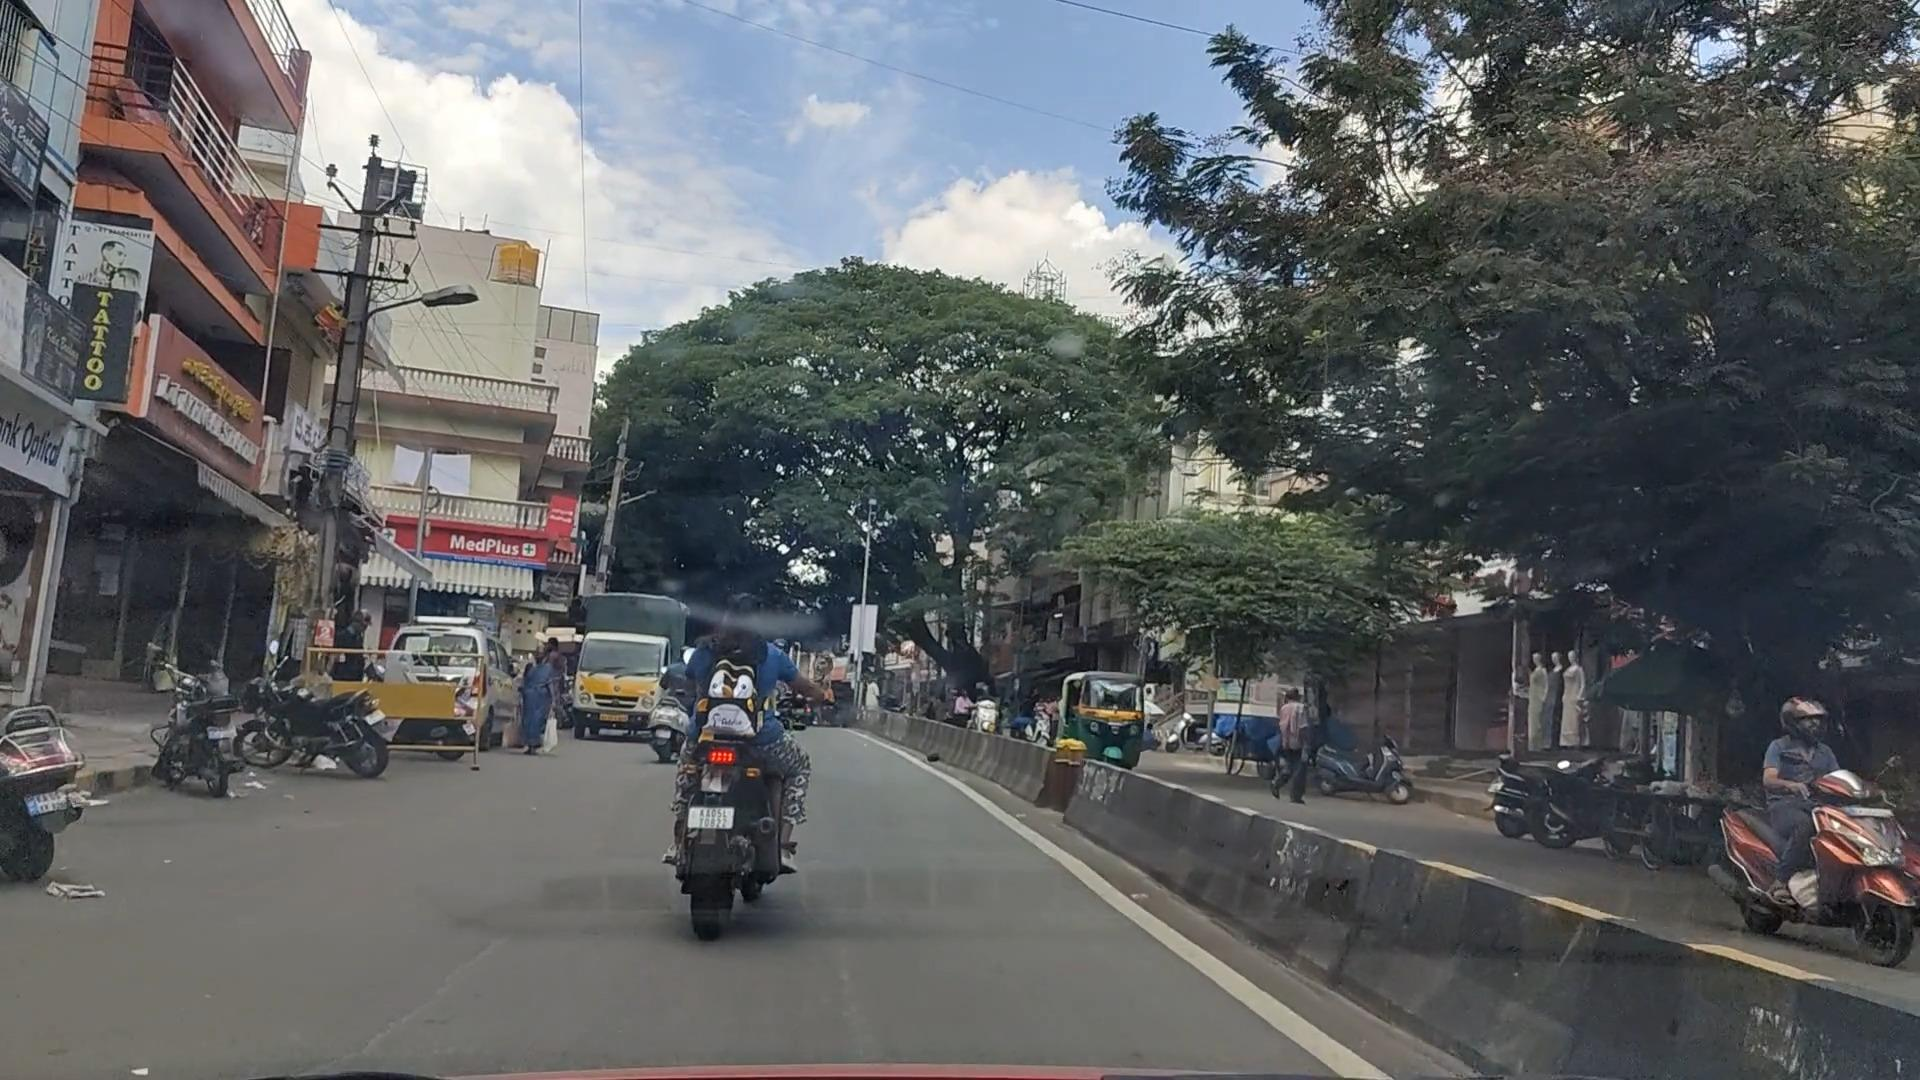LMV: (686, 600, 827, 955)
RoadDamages: (335, 808, 570, 1080)
